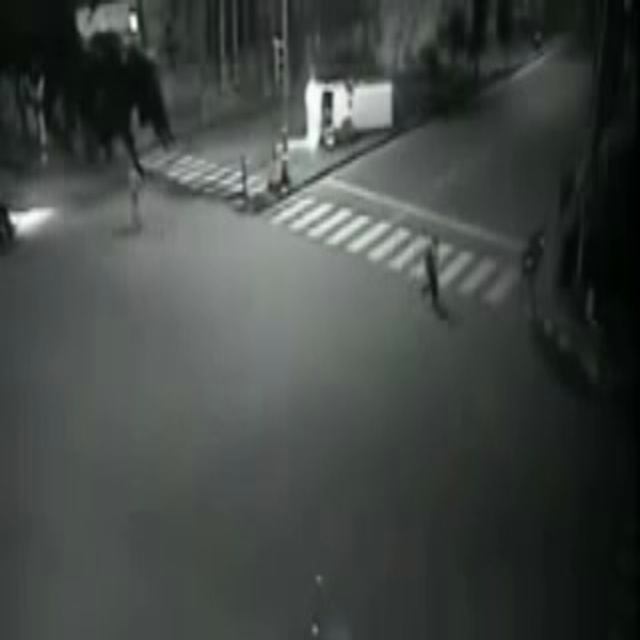acc: (296, 68, 403, 151)
